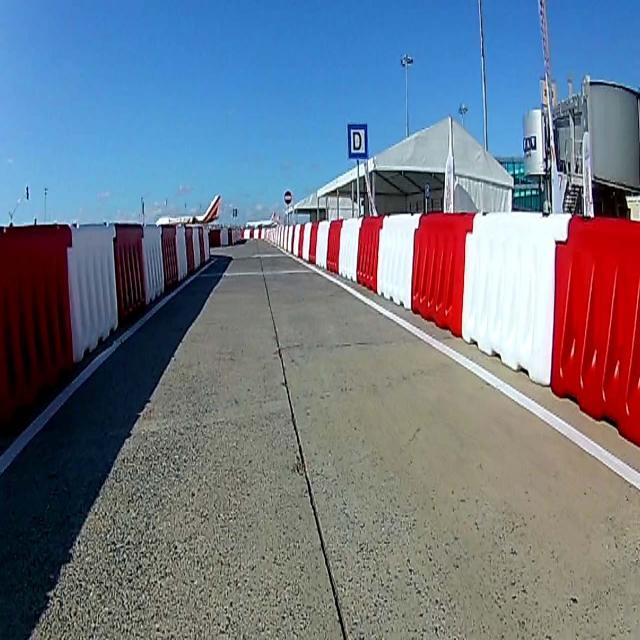durak: (347, 123, 369, 159)
girisyok: (284, 188, 292, 204)
